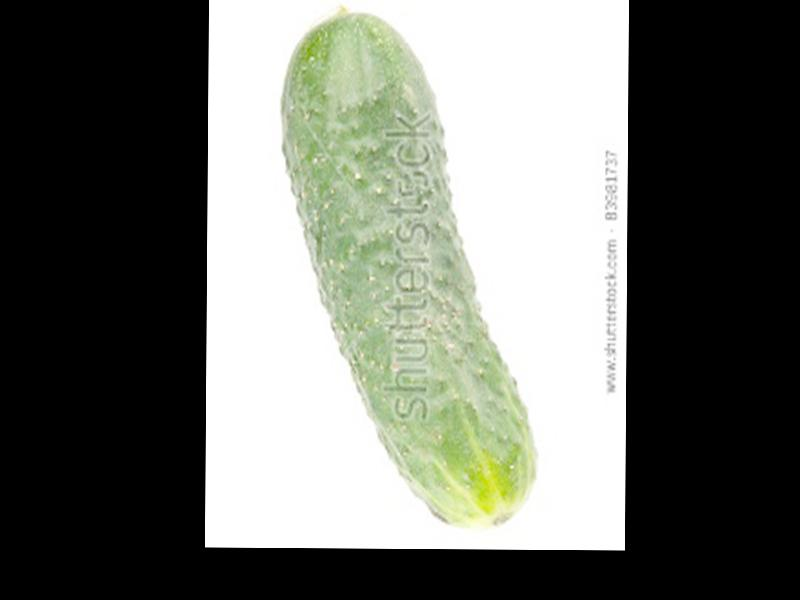Cucumber: (277, 9, 538, 527)
